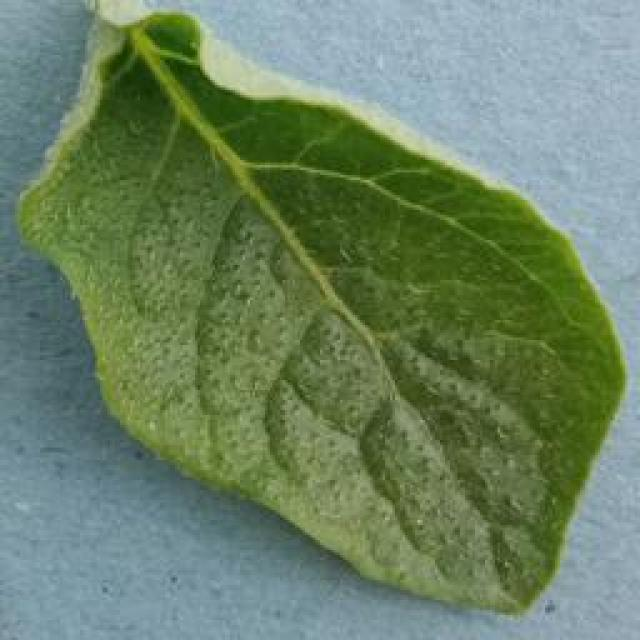Potato_Healthy: (4, 7, 632, 633)
